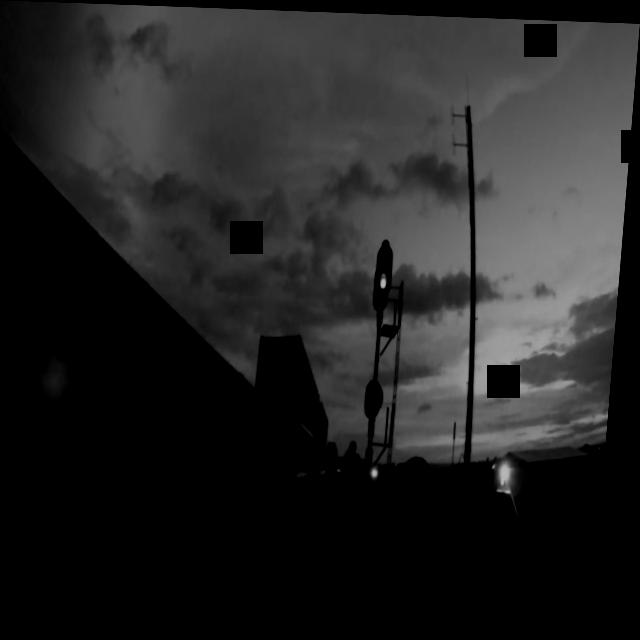container: (0, 85, 294, 490), (255, 327, 334, 443)
flatcar: (0, 453, 284, 640)
